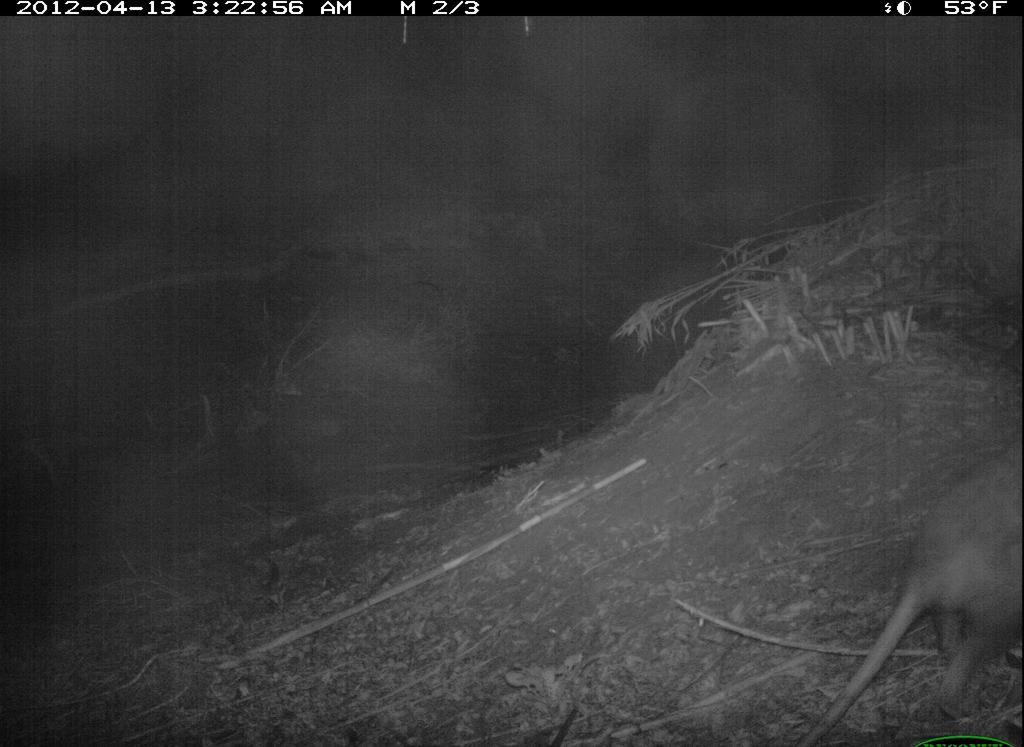opossum: (793, 440, 1018, 747)
